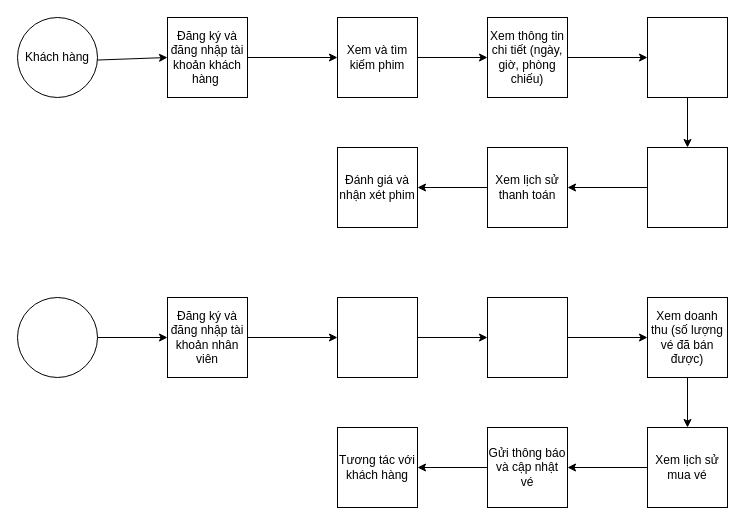
This 745x525 diagram has some shape labels left out. The centre of each missing label's shape, as x and y in pixels:
"Chỉnh sửa phim (thêm, sửa, xóa)" belongs at (x=377, y=337).
"Chọn ghế(thường, vip, couple)" belongs at (x=687, y=57).
"Nhân viên" belongs at (x=57, y=337).
"Quản lí số lượng vé" belongs at (x=527, y=337).
"Thanh toán" belongs at (x=687, y=187).
